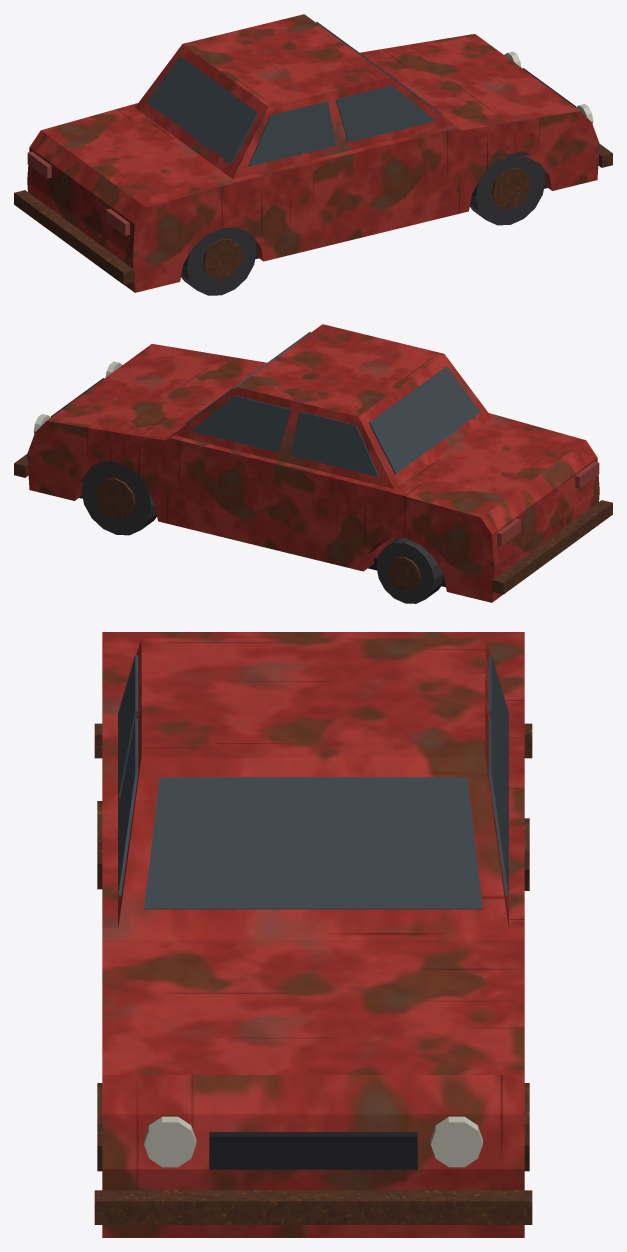
File: car_sedan_red.glb
The picture shows the model from 3 angles, top to bottom: view 1: azimuth 30°, elevation 25°; view 2: azimuth 150°, elevation 25°; view 3: azimuth 270°, elevation 25°; orthographic projection. The views are drawn at different scales.
Visible parts, largest first — view 1: car_sedan_red; view 2: car_sedan_red; view 3: car_sedan_red.
Part boxes in pixels (x1,y1,x2,y2): car_sedan_red: (14,14,612,295); car_sedan_red: (14,324,612,603); car_sedan_red: (94,632,532,1237).
Bounding box in the file's own units: 4.34 × 1.42 × 1.68.
Materials: 7 (2 with a texture image).
